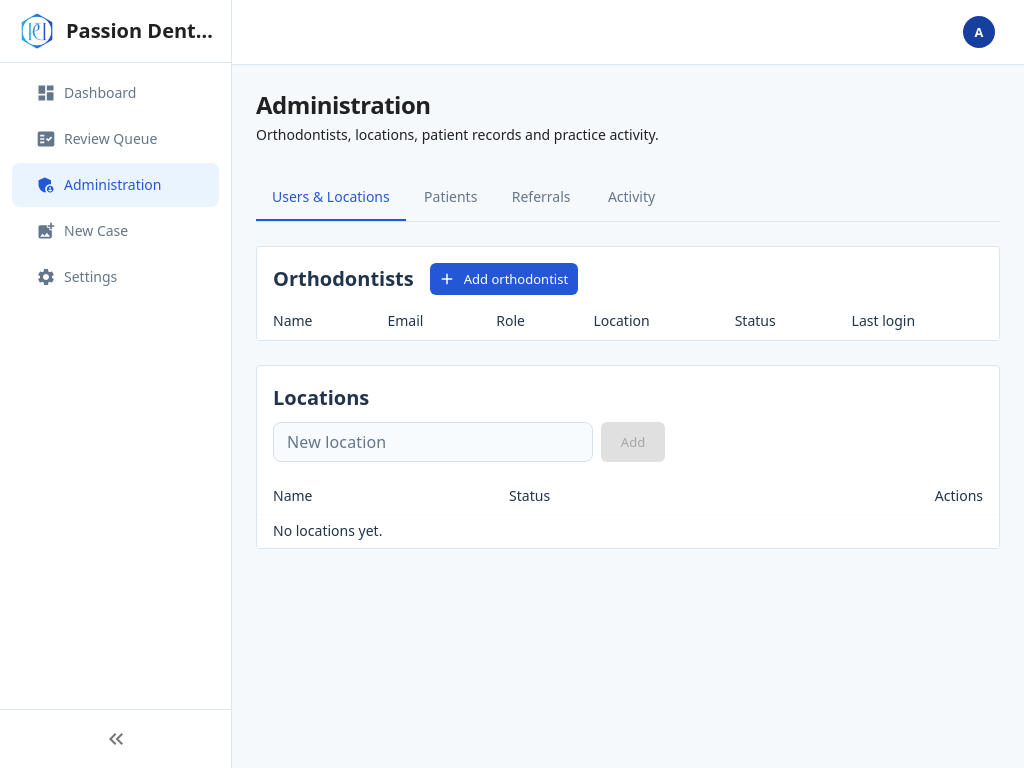
Test: Administration tabs › shows the referral list on the referrals tab
Click the tab "Referrals" at point(541, 197), box [496, 173, 586, 221]
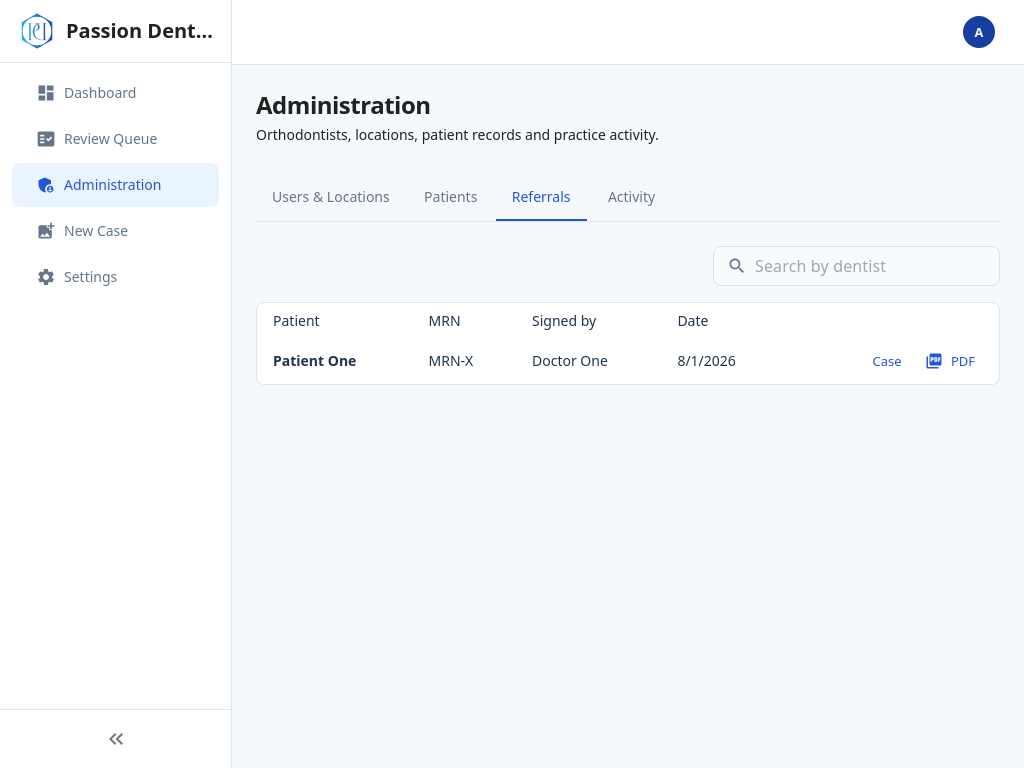
Result: the text "Patient One" is shown at [257, 340, 412, 383]
